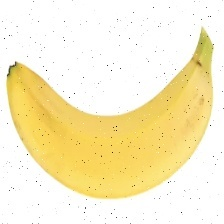banana: (49, 7, 205, 176)
